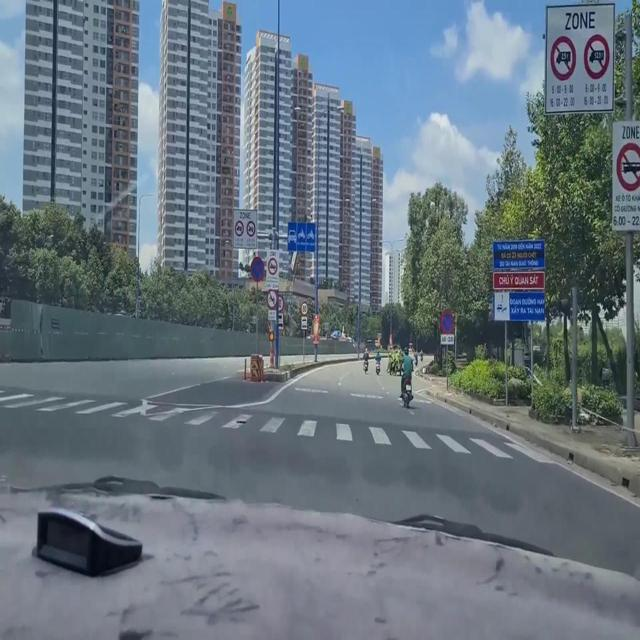Biển phụ: (438, 333, 454, 345), (300, 311, 308, 329)
Cấm các phương tiện hoạt động trong khung giờ cố định: (544, 6, 614, 116), (614, 125, 635, 231), (232, 205, 260, 250), (266, 244, 279, 287)
Cấm dừng - Cấm đỗ: (251, 248, 266, 282), (440, 303, 455, 335)
Cấm xe máy: (263, 285, 278, 312)
Giới hạn tốc độ: 80Km/h: (298, 298, 308, 315)
Khác: (489, 229, 550, 324)
Làn đường cho từng xe: (283, 214, 317, 252)
